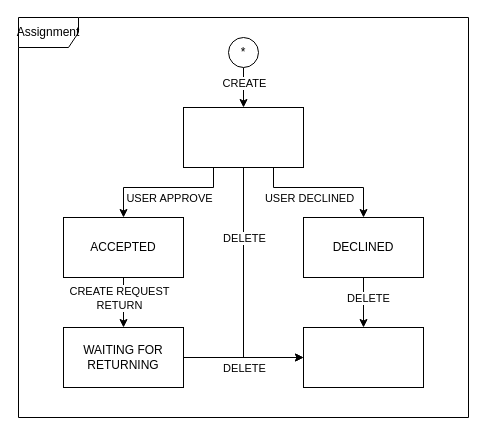
Image size: 486x435. Some labels were removed from this diagram. The shapes that lost their labels are listed below. From the top down, each one's box as (x1, y1, x2, y2) in pixels, then its label:
(182, 106, 304, 168): WAITING FOR ACCEPTANCE
(302, 326, 424, 388): REMOVED
